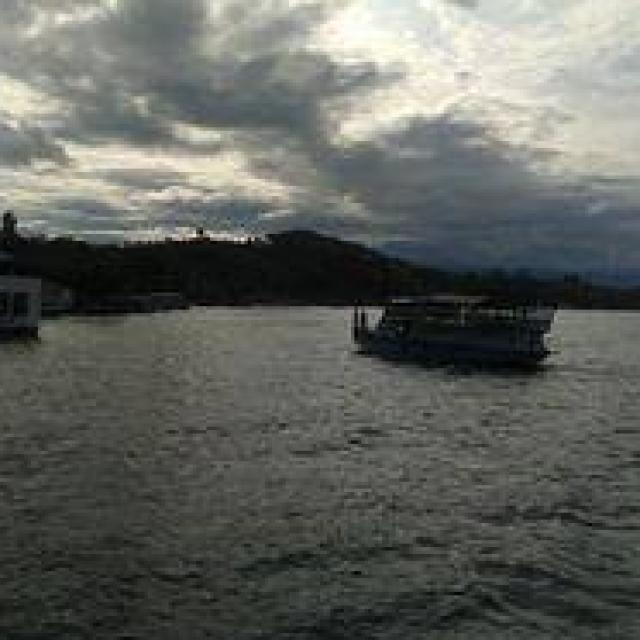houseboat: (348, 270, 566, 379)
